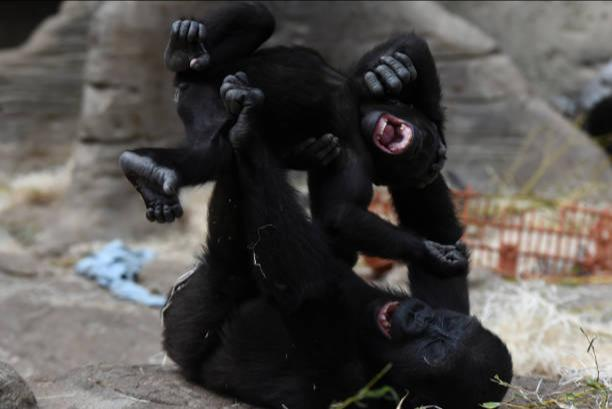gorille_Autres: (144, 0, 522, 409)
